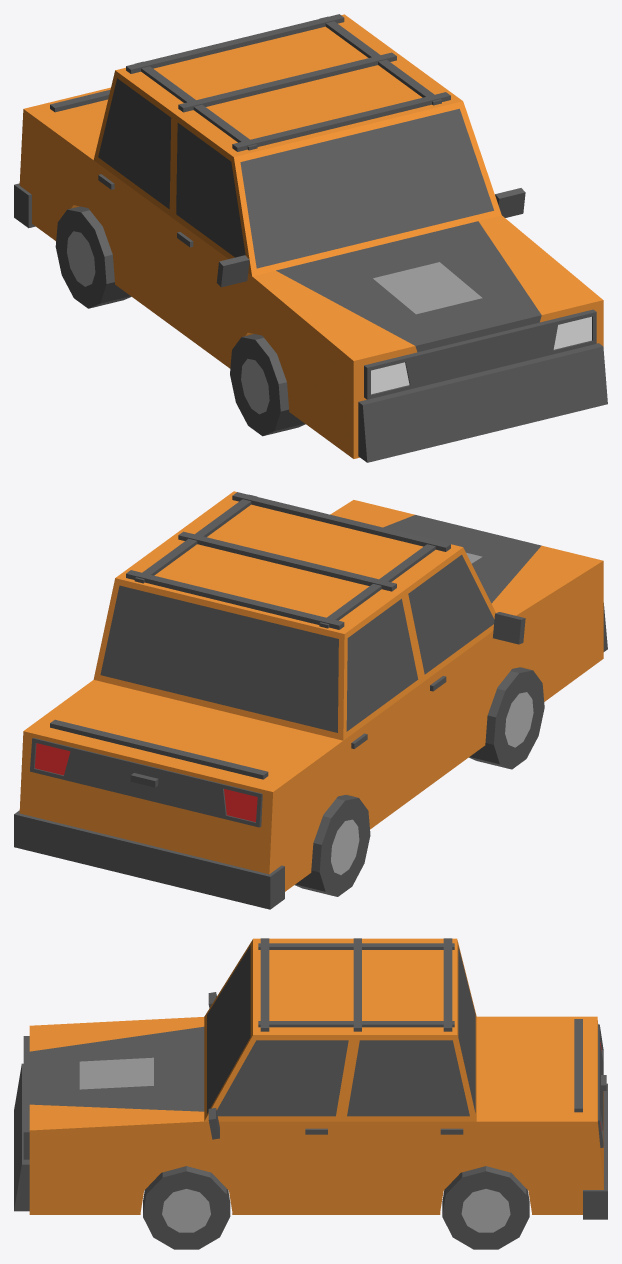
File: SM_Car_01_02.FBX
3 views of the same model, one above another, from view 1: azimuth 30°, elevation 25°; view 2: azimuth 150°, elevation 25°; view 3: azimuth 270°, elevation 25° (orthographic). The views are drawn at different scales.
Visible parts, largest first — view 1: SM_Car_01_02, SM_Wheel_RBack001, SM_Wheel_LFront001; view 2: SM_Car_01_02, SM_Wheel_LFront001, SM_Wheel_RBack001; view 3: SM_Car_01_02, SM_Wheel_LBack001, SM_Wheel_LFront002.
Boxes of the visible parts, x1,y1,x2,y2 form: SM_Car_01_02: (14,14,607,462); SM_Wheel_RBack001: (55,206,131,308); SM_Wheel_LFront001: (230,334,305,436); SM_Car_01_02: (14,491,607,909); SM_Wheel_LFront001: (469,667,544,769); SM_Wheel_RBack001: (295,795,370,896); SM_Car_01_02: (14,938,607,1219); SM_Wheel_LBack001: (442,1166,529,1249); SM_Wheel_LFront002: (143,1166,230,1249).
Bounding box in the file's own units: 1.7 × 1.32 × 3.37.
1 material, 1 textured.
